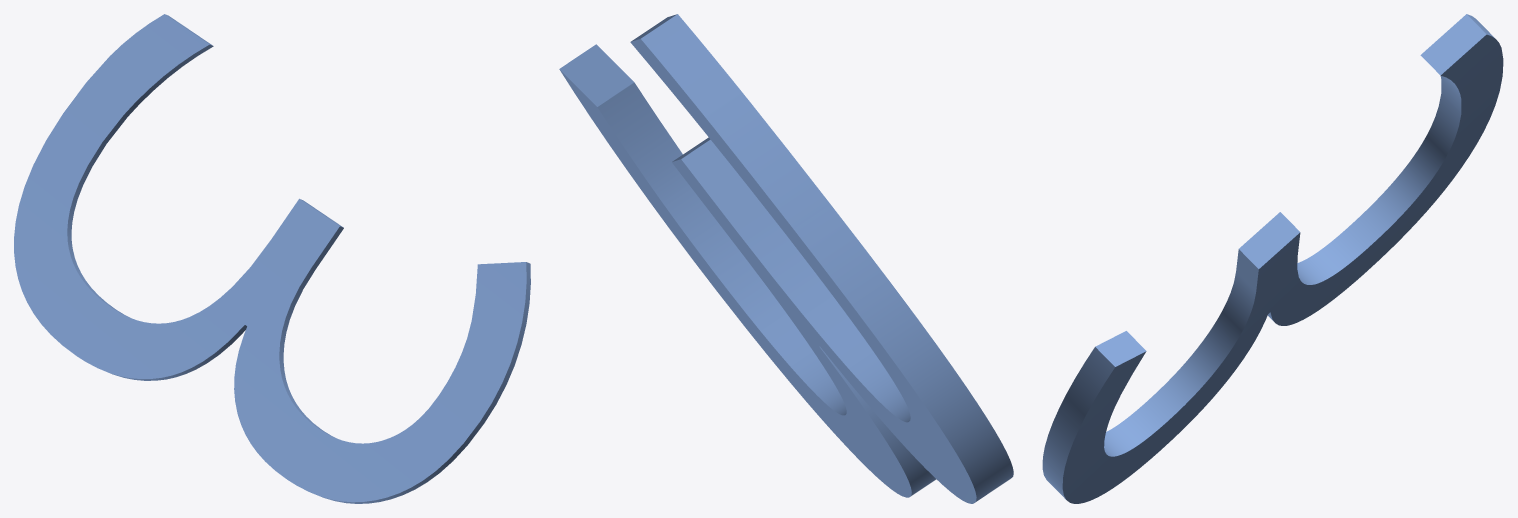
The model's file is New_Number_3.gltf.
The picture shows the model from 3 angles, left to right: view 1: azimuth 30°, elevation 25°; view 2: azimuth 150°, elevation 25°; view 3: azimuth 270°, elevation 25°; orthographic projection. The views are drawn at different scales.
Parts seen in each view (by area): view 1: Part 192; view 2: Part 192; view 3: Part 192.
Part boxes in pixels (box(x1,y1,x2,y2)): Part 192: box(14, 14, 530, 503); Part 192: box(559, 14, 1013, 503); Part 192: box(1042, 14, 1503, 503).
Size of the model in its own units: 0.00437 by 0.00424 by 0.00388.
